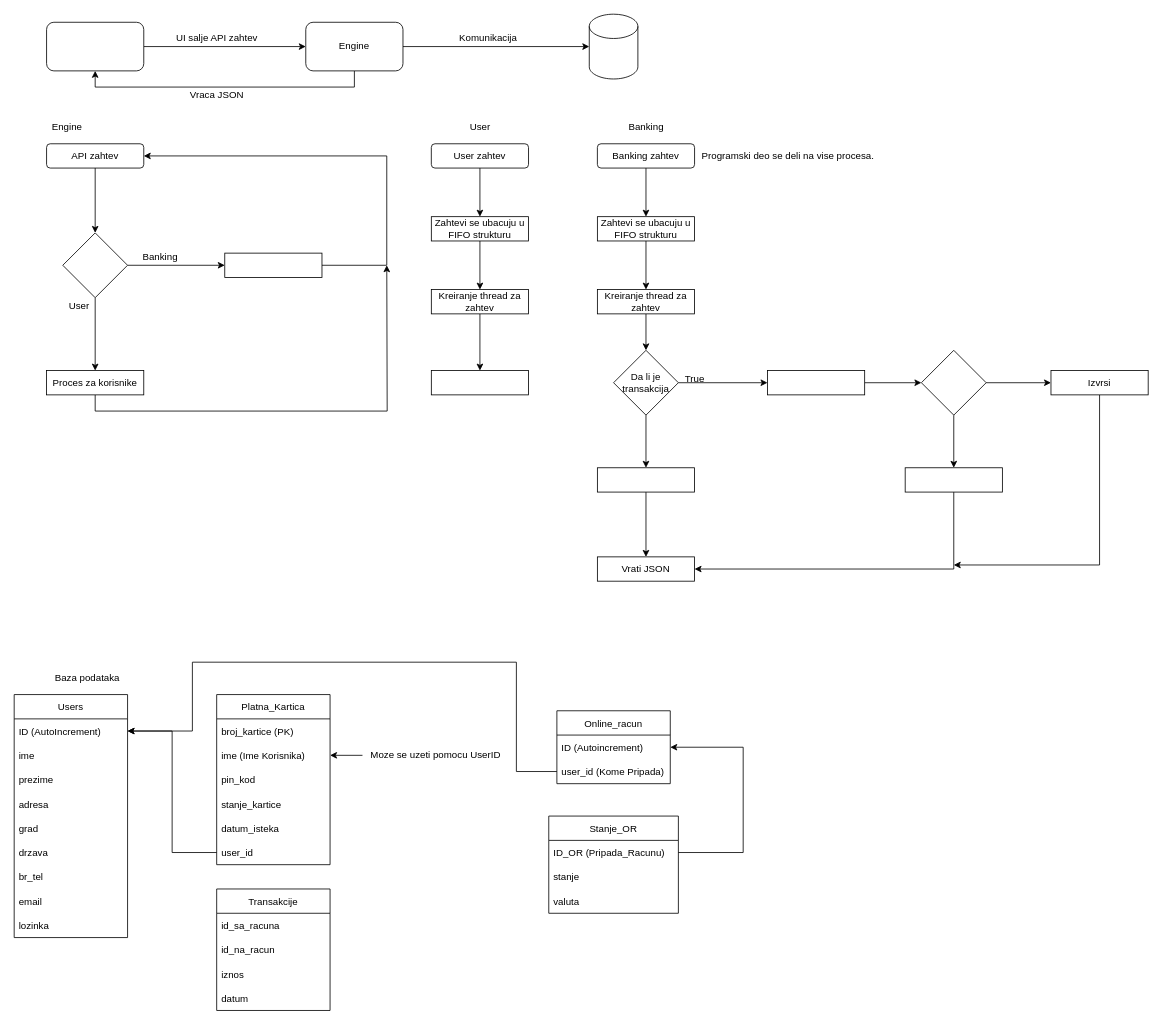
Some shapes in this 1162 by 1025 pixel diagram are drawn without their labels. The shapes that lost their labels are listed below. From the top down, each one's centre as x and y in pixels, then its label:
At (x=95, y=46): "UI".
At (x=613, y=46): "DB".
At (x=95, y=265): "User or Banking".
At (x=273, y=264): "Proces za bankarski deo".
At (x=480, y=382): "Vraca JSON UI".
At (x=816, y=382): "Cekaj 2 min".
At (x=953, y=382): "Da li je moguce izvrsiti".
At (x=646, y=479): "Izvrsi zahtev".
At (x=953, y=479): "Javi gresku".
